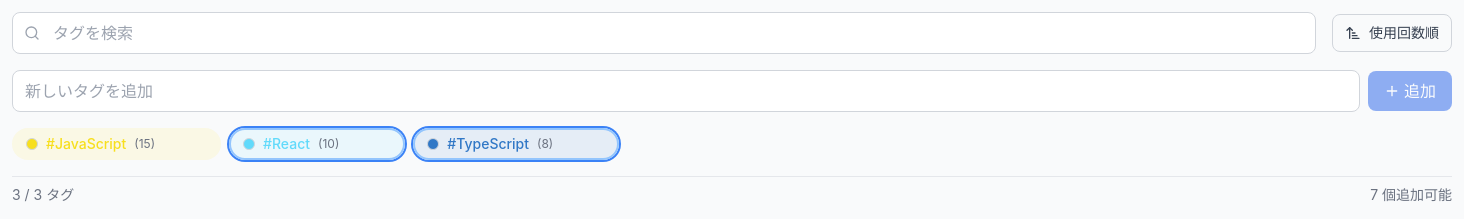
Test case: TagManager › 検索・フィルタリング機能 › タグを検索でフィルタリングできる
Type "React" into the field with placeholder "タグを検索" at [664, 33], box top-left (12, 12), bottom-right (1316, 54)
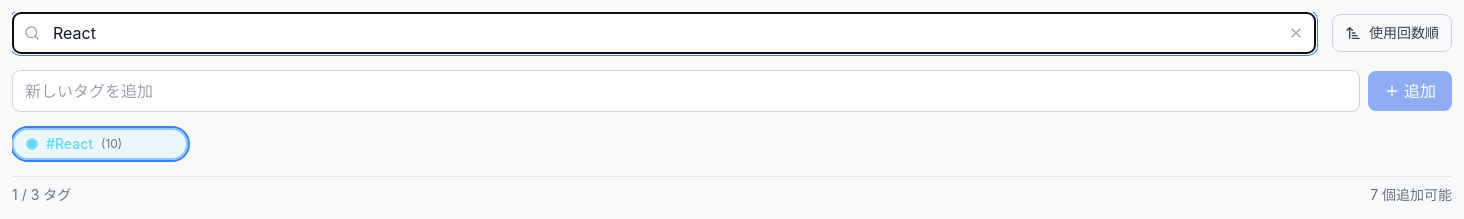
Check: the text "#React" is shown, box top-left (46, 134), bottom-right (93, 154)
Check: the button "#JavaScript" is gone
